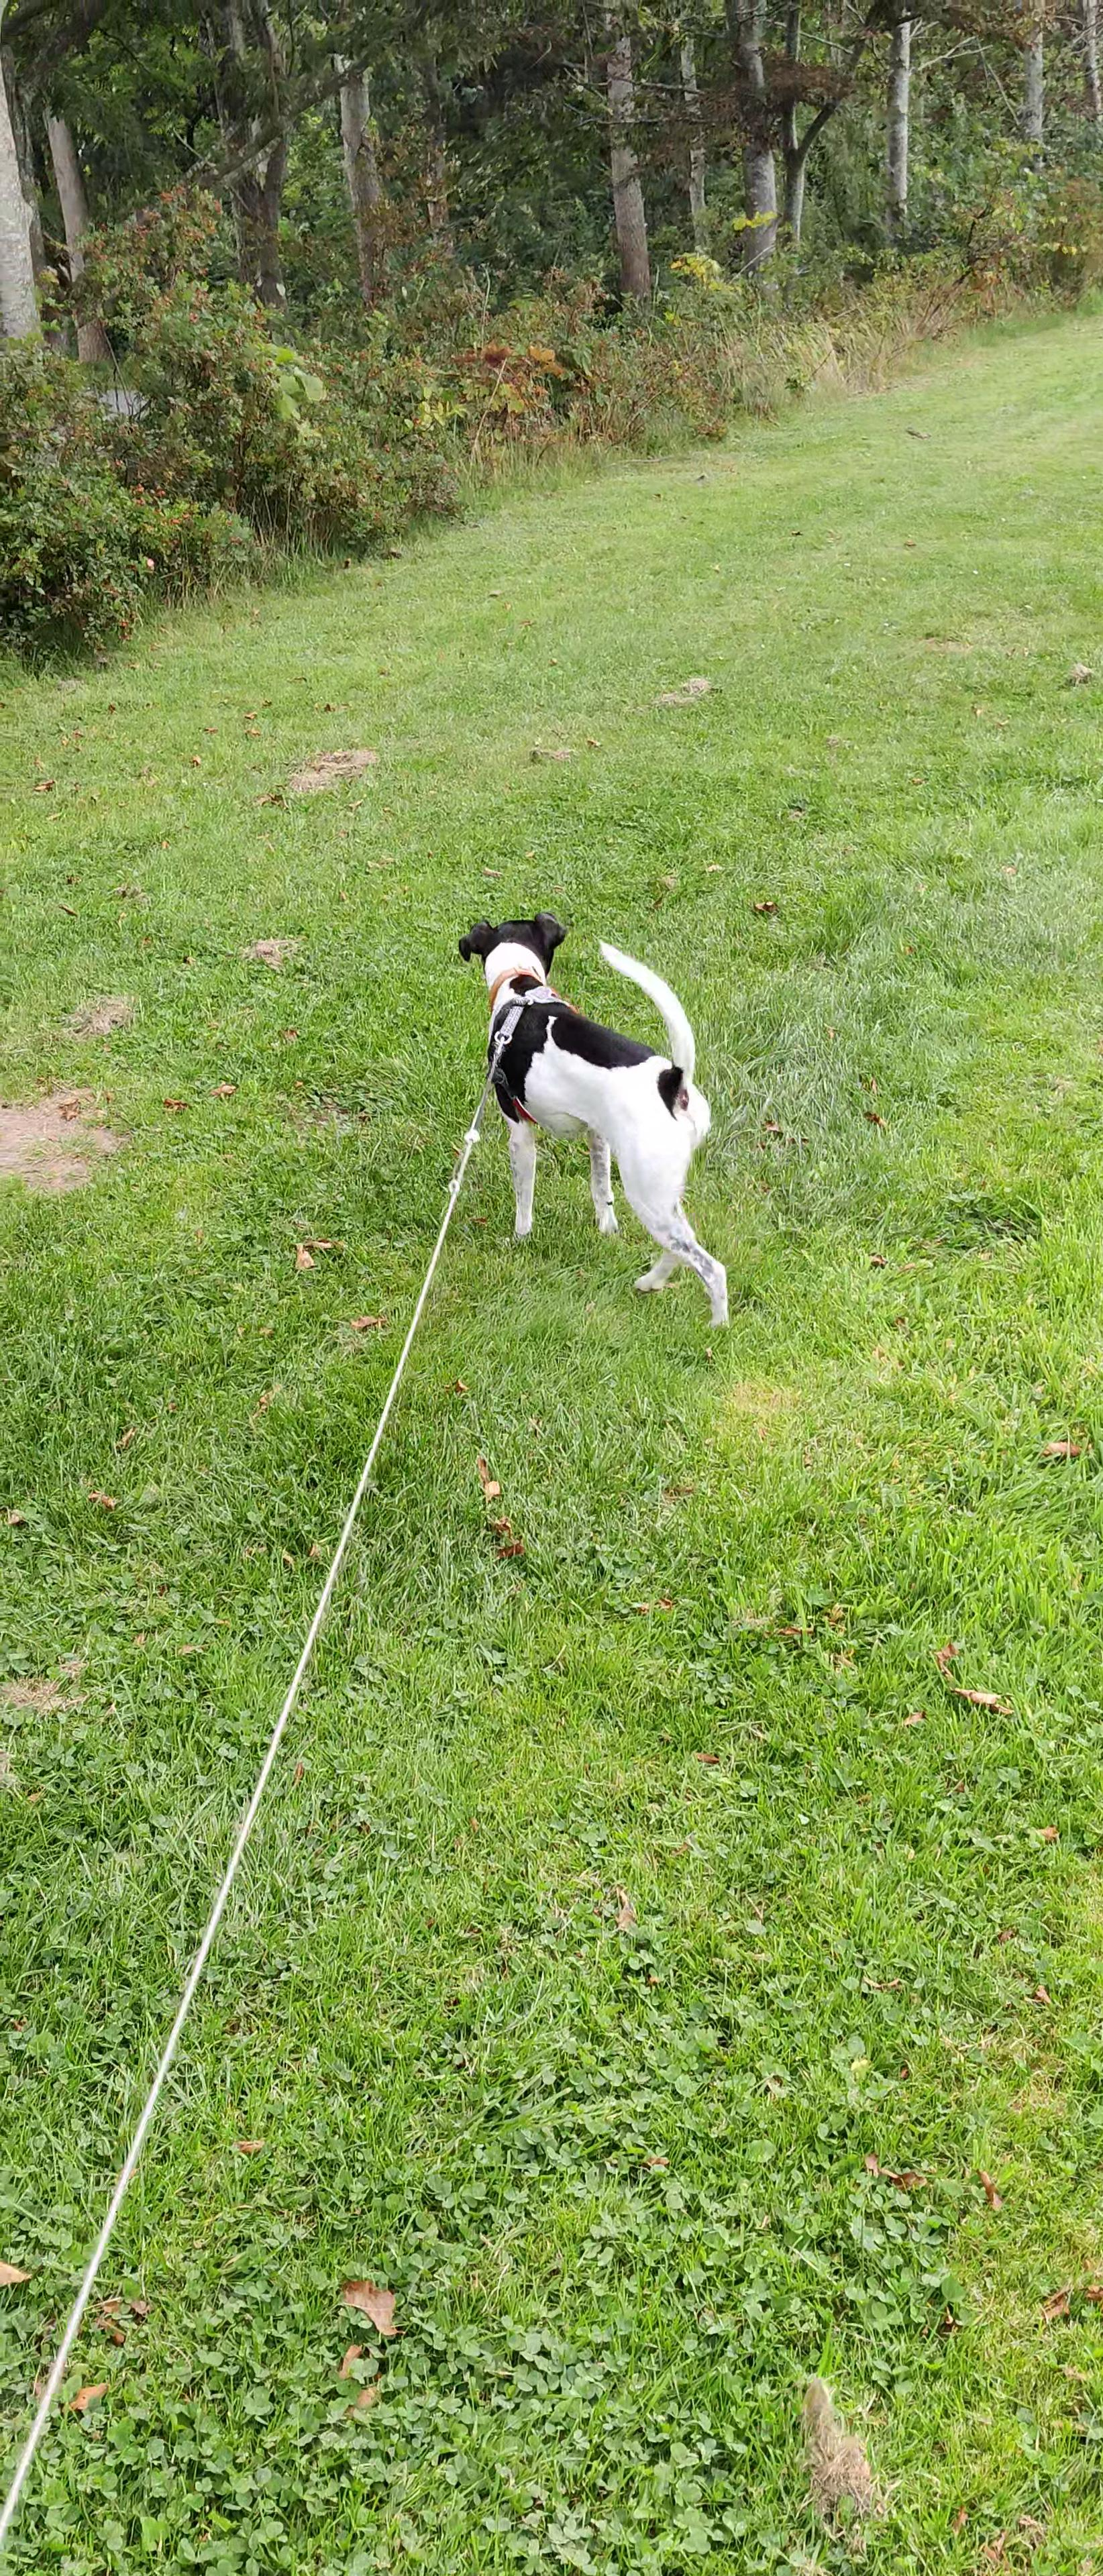Dog: (455, 910, 733, 1332)
